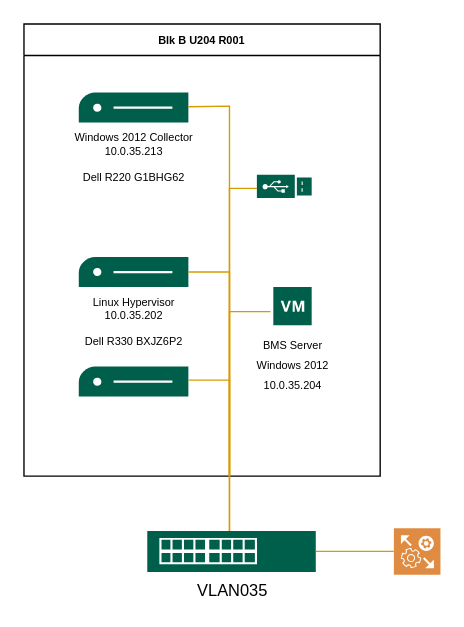
Image size: 464x627. Some labels were removed from this diagram. The centre of each missing label's shape, as x and y in pixels:
"IPLC" belongs at [416,550].
"License Key" belongs at [283,185].
"Linux Hypervisor 10.0.35.203 Dell R330 BXK07P2" belongs at [133,381].
